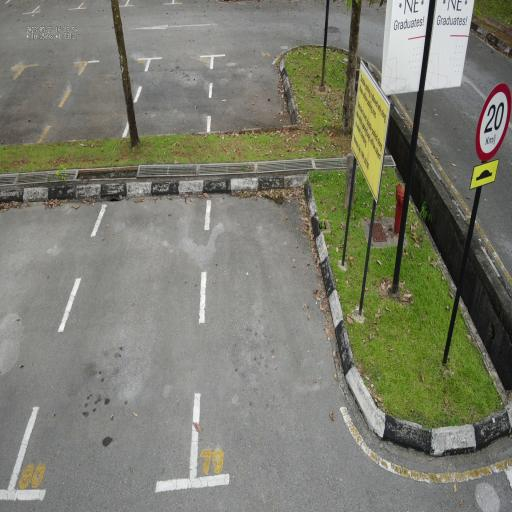Empty: (1, 176, 218, 506), (184, 166, 382, 496)
